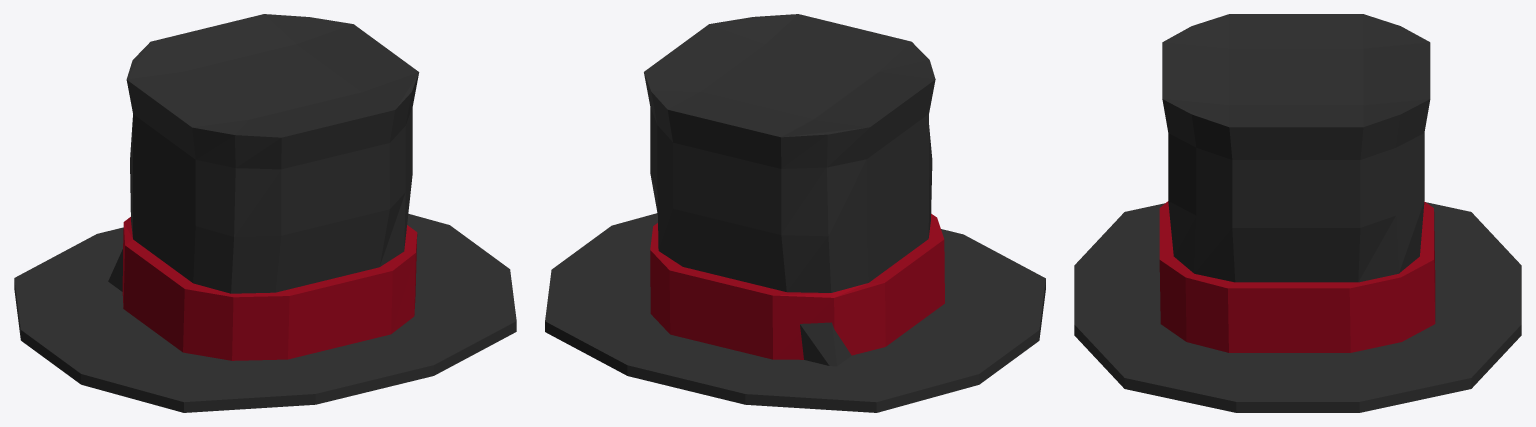
File: Tophat.fbx
3 views of the same model, side by side, from view 1: azimuth 30°, elevation 25°; view 2: azimuth 150°, elevation 25°; view 3: azimuth 270°, elevation 25° (orthographic). The views are drawn at different scales.
Parts seen in each view (by area): view 1: pCube37; view 2: pCube37; view 3: pCube37.
Boxes of the visible parts, x1,y1,x2,y2 form: pCube37: (14,14,516,412); pCube37: (545,14,1045,412); pCube37: (1074,14,1521,412).
Bounding box in the file's own units: 167 × 87.01 × 148.
